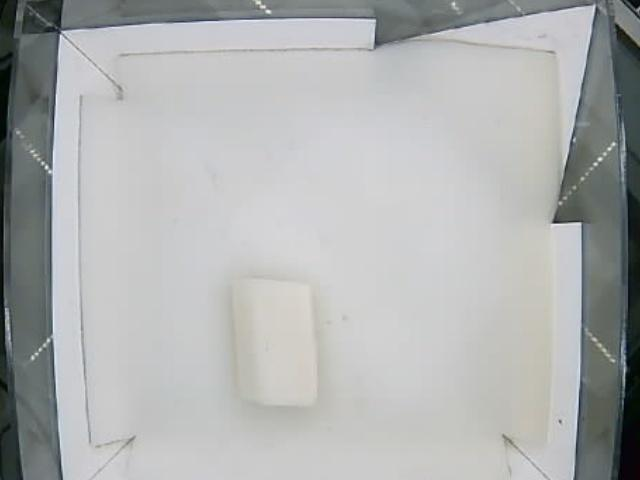Mooli: (231, 275, 318, 408)
